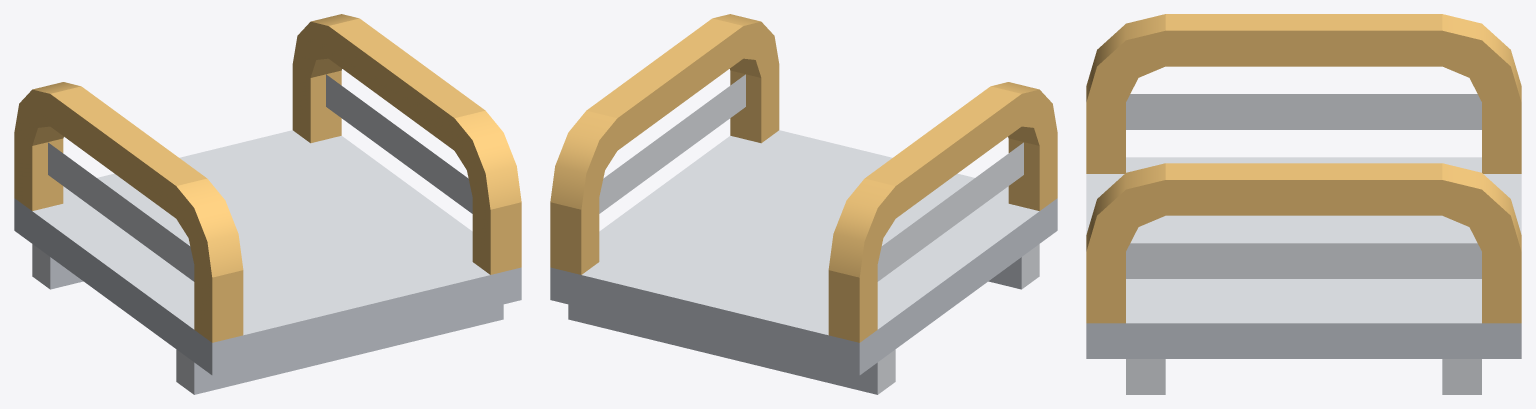
The model's file is rail-holder.glb.
3 renders of one model, left to right at view 1: azimuth 30°, elevation 25°; view 2: azimuth 150°, elevation 25°; view 3: azimuth 270°, elevation 25°, orthographic. The views are drawn at different scales.
Parts seen in each view (by area): view 1: barrels_rail; view 2: barrels_rail; view 3: barrels_rail.
Part boxes in pixels (box(x1,y1,x2,y2)): barrels_rail: box(14, 14, 521, 394); barrels_rail: box(550, 14, 1057, 394); barrels_rail: box(1086, 14, 1521, 394).
Size of the model in its own units: 0.4964 by 0.3 by 0.55.
